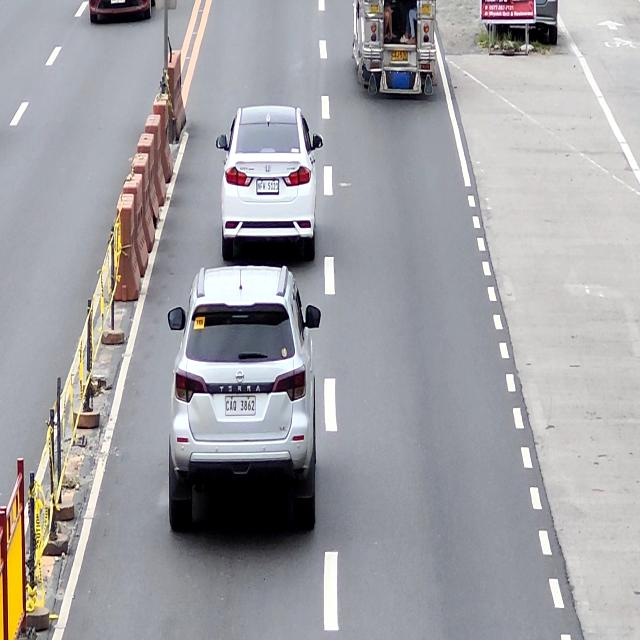Car: (166, 267, 321, 529), (216, 105, 322, 262)
Jeep: (353, 0, 437, 92)
License-Plate: (224, 398, 257, 416), (256, 178, 280, 194), (389, 48, 409, 62)
